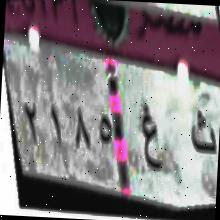1: (45, 96, 66, 155)
2: (20, 96, 42, 149)
5: (97, 112, 114, 148)
8: (71, 102, 93, 152)
ghayn: (136, 92, 166, 180)
thaa: (182, 108, 219, 162)
